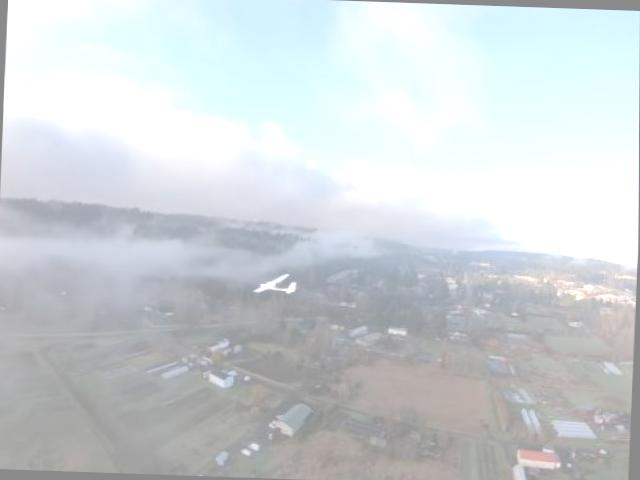uav: (248, 261, 306, 306)
